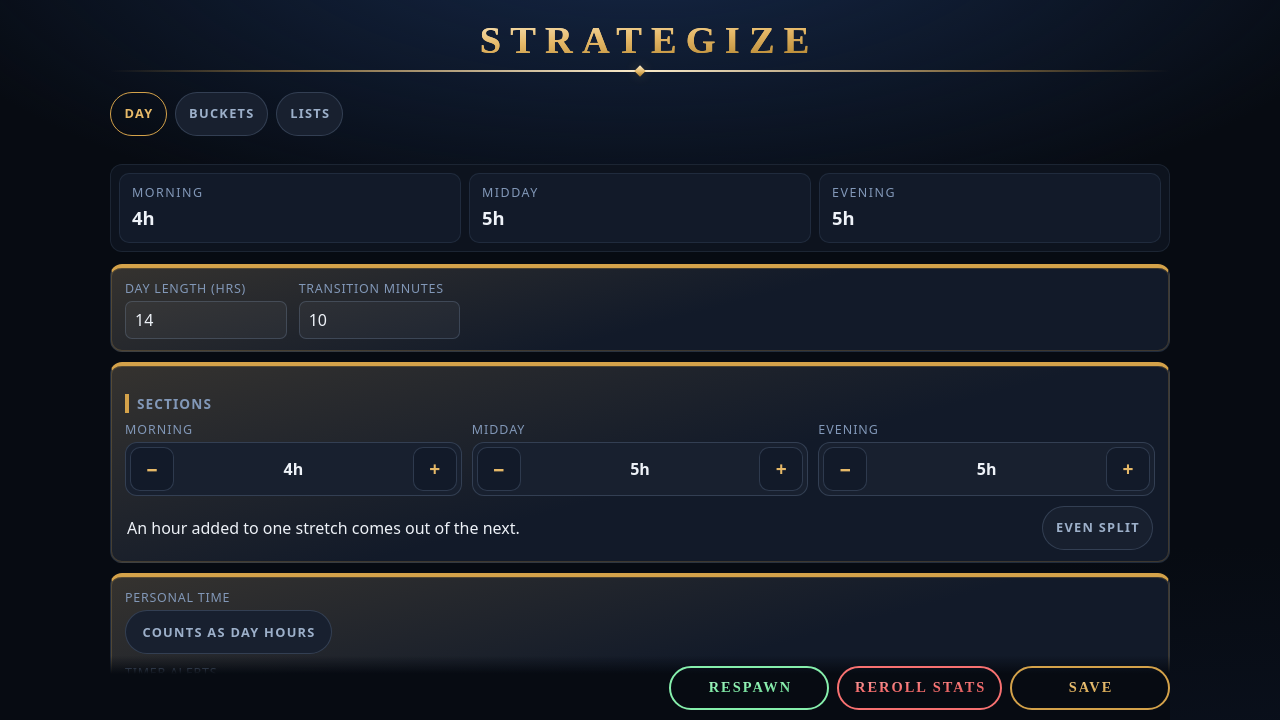
it: an expiry date › is offered on a recurring item
Click the button "Lists" at (310, 114), box [276, 92, 344, 136]
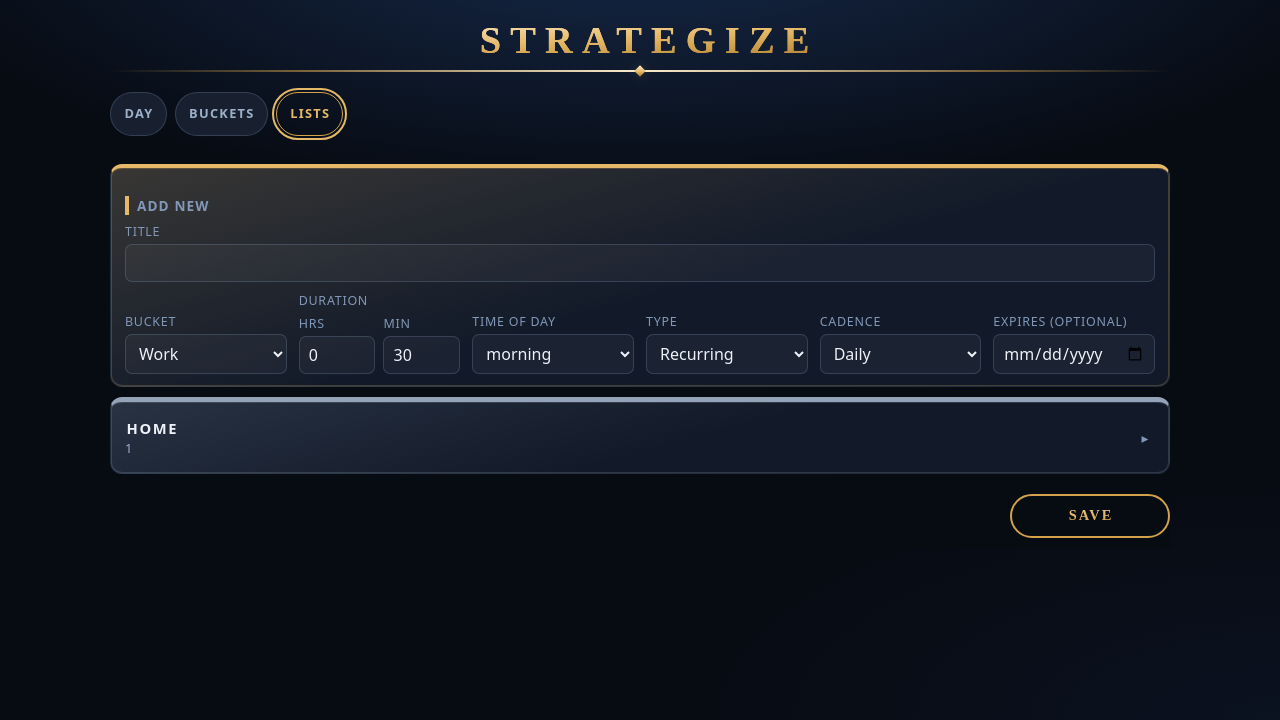
Expected: the date field named "expiresAt" is shown, [993, 334, 1155, 374]
